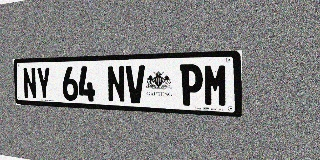4: (78, 66, 95, 102)
6: (62, 66, 78, 101)
M: (204, 63, 228, 107)
N: (107, 65, 126, 103), (22, 67, 37, 99)
P: (180, 64, 203, 106)
V: (125, 65, 146, 104)
Y: (36, 67, 51, 100)
